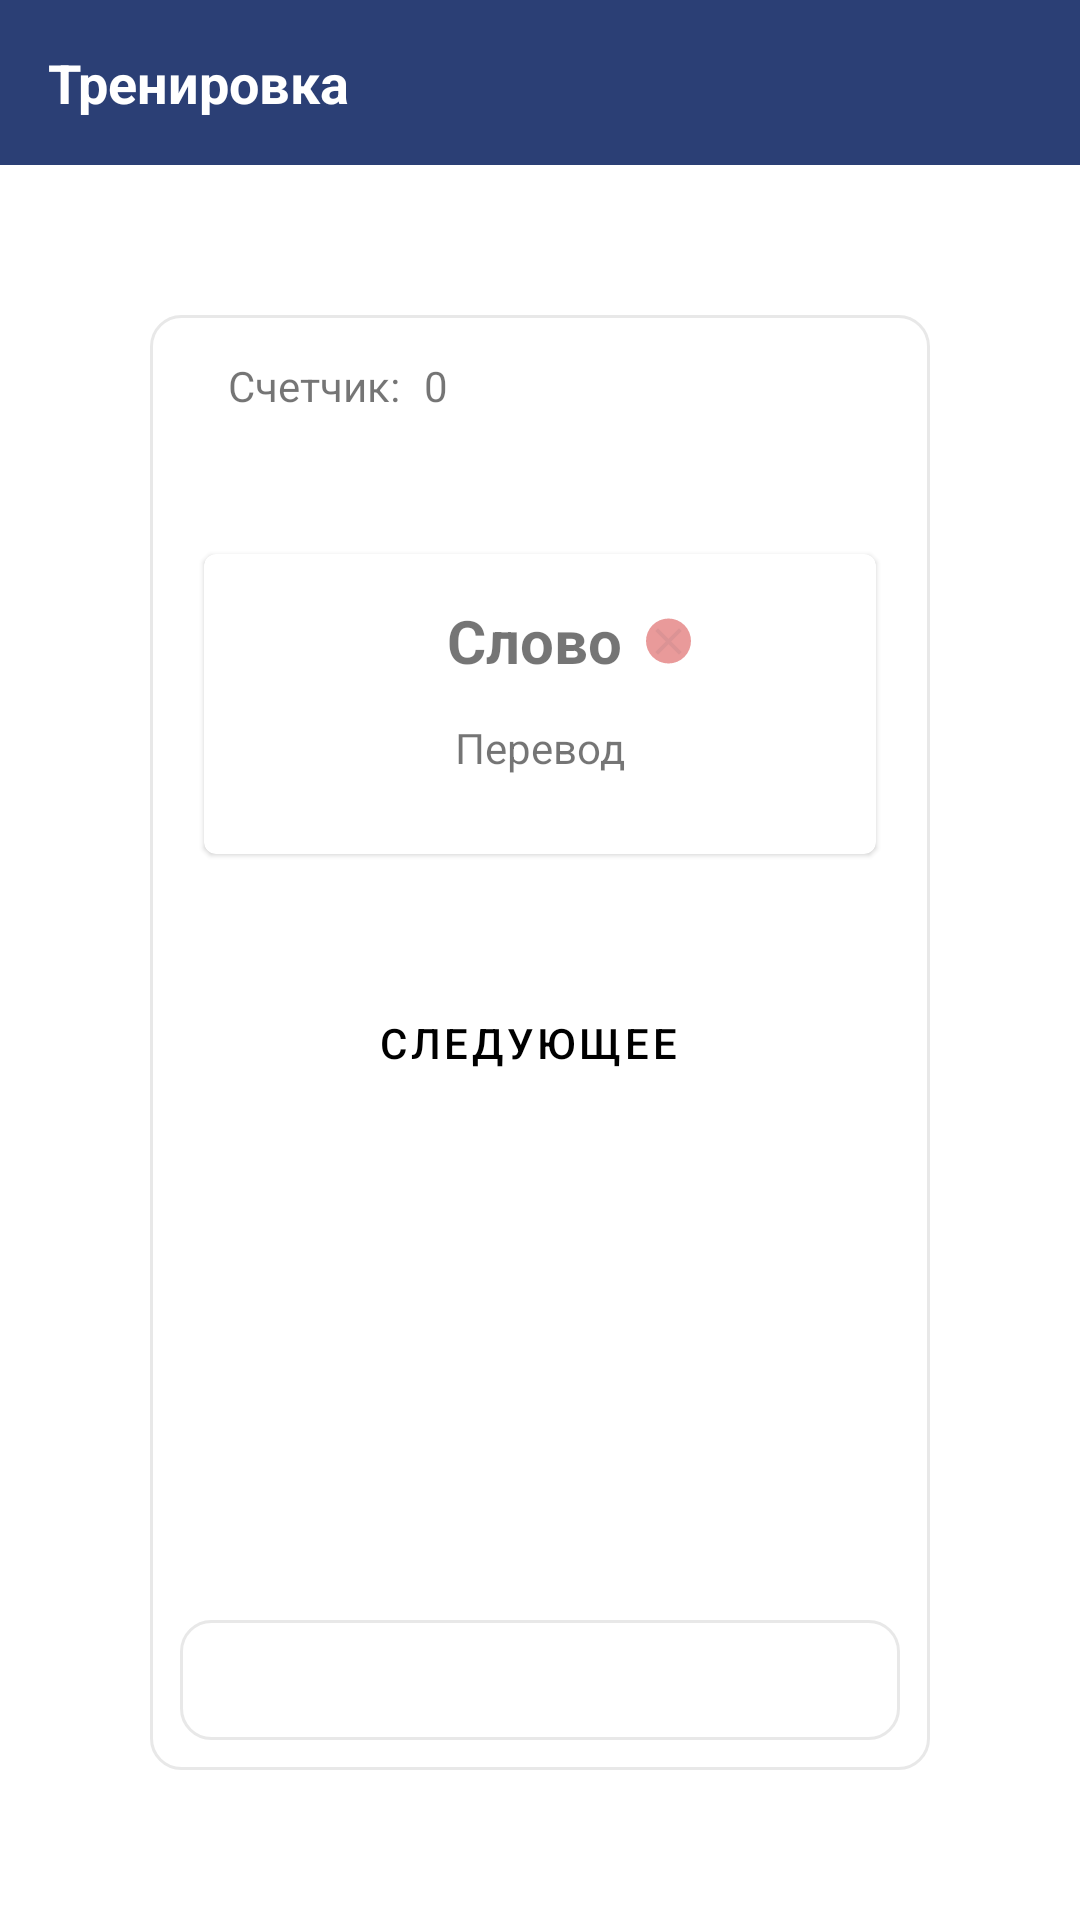

Screen size 1080x1920. Icon name, then its box in pixels as (x1, y1, x2, y2):
state: (646, 618, 691, 664)
